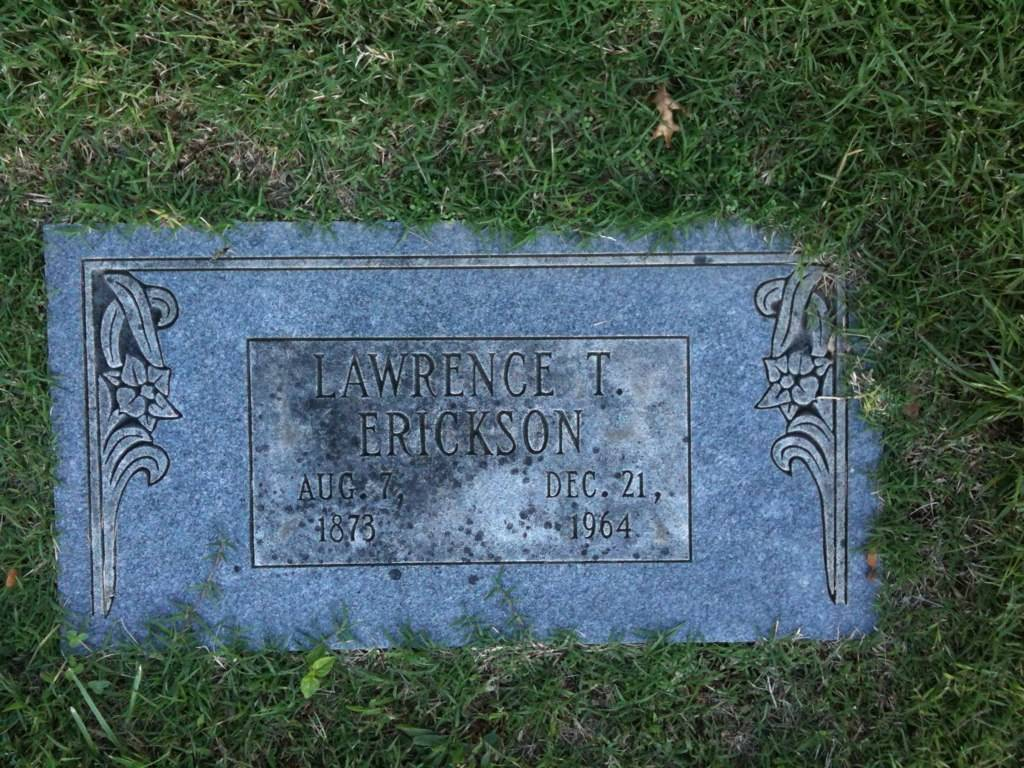flat: (25, 195, 904, 662)
